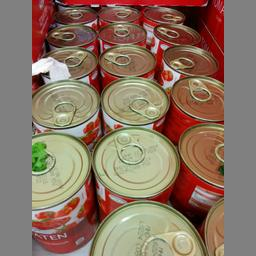tomato_sauce: (31, 130, 96, 255), (92, 124, 180, 210)
